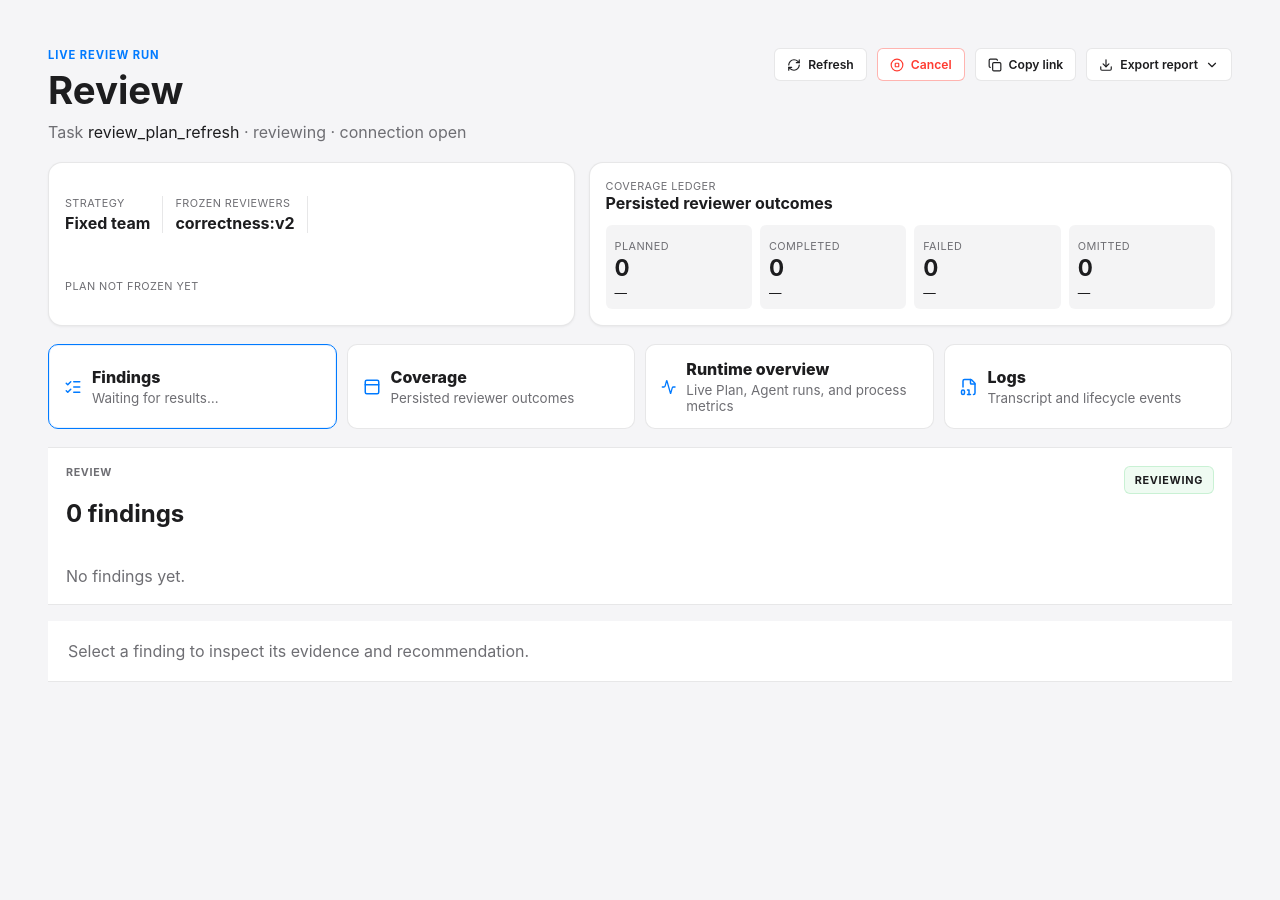
Test case: shows timeline filters when the persisted review plan arrives
Click the tab "Logs Transcript and lifecycle events" at [1007, 377], box [944,344,1232,429]
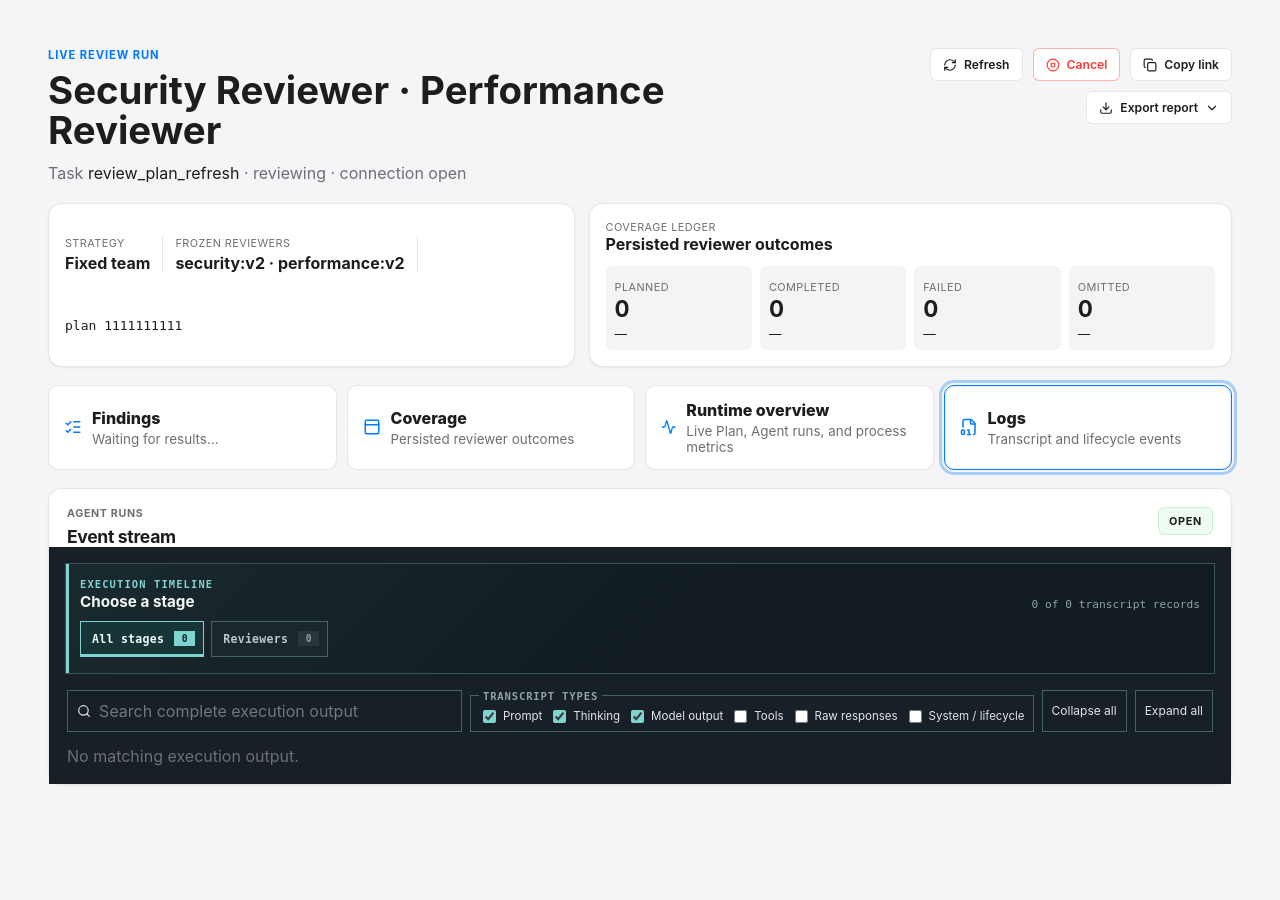
Expected: the button "Reviewers 0" is shown, [211,621,328,657]
